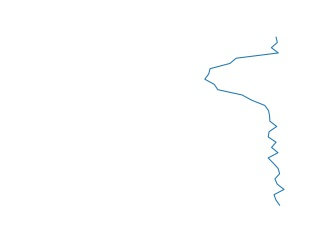distalBar: (201, 38, 294, 204)
